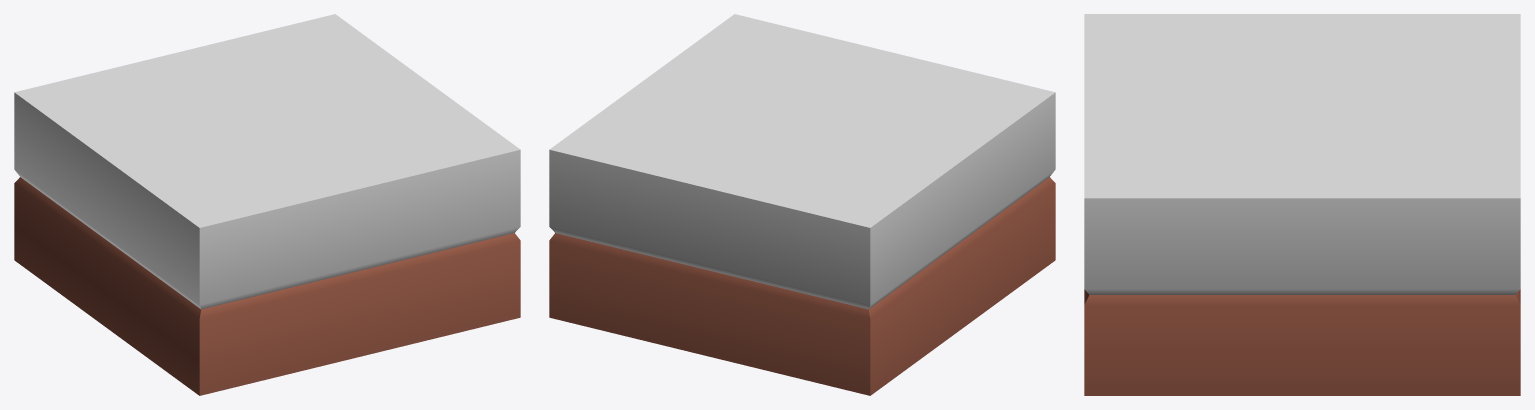
The model's file is square_snow_detail.fbx.
3 views of the same model, side by side, from view 1: azimuth 30°, elevation 25°; view 2: azimuth 150°, elevation 25°; view 3: azimuth 270°, elevation 25° (orthographic). The views are drawn at different scales.
Parts seen in each view (by area): view 1: square_snow_detail; view 2: square_snow_detail; view 3: square_snow_detail.
Part boxes in pixels (x1=…): square_snow_detail: x1=14, y1=14, x2=520, y2=395; square_snow_detail: x1=549, y1=14, x2=1055, y2=395; square_snow_detail: x1=1084, y1=14, x2=1520, y2=395.
Size of the model in its own units: 2 by 1 by 2.
